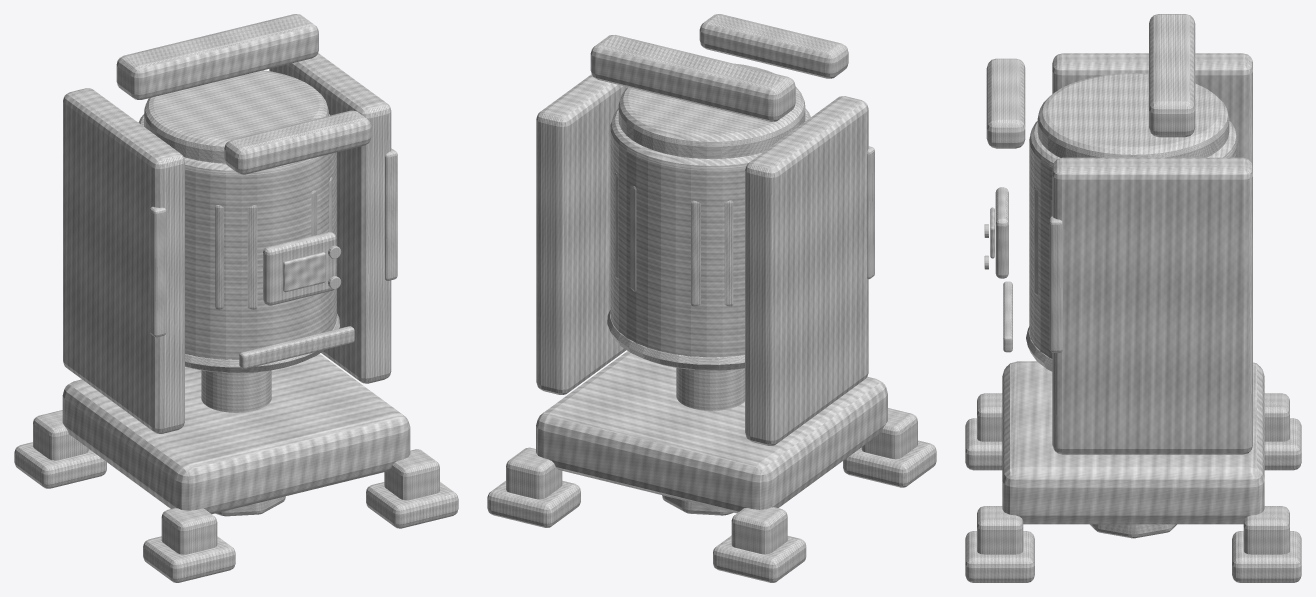
File: portable_miner_variant_b.glb
3 renders of one model, left to right at view 1: azimuth 30°, elevation 25°; view 2: azimuth 150°, elevation 25°; view 3: azimuth 270°, elevation 25°, orthographic. The views are drawn at different scales.
Visible parts, largest first — view 1: Armored side rail.001, Lower chassis.001, Motor housing.001, Armored side rail, Motor upper cap.001, Top carry arch, Carry handle.002, Service panel bezel.001, Drive spindle.001, Rubberized foot.004, Rubberized foot.006, Rubberized foot.005 (+10 smaller); view 2: Armored side rail.001, Lower chassis.001, Motor housing.001, Armored side rail, Top carry arch, Motor upper cap.001, Carry handle.002, Rubberized foot.005, Rubberized foot.007, Drive spindle.001, Rubberized foot.004, Foot bracket.005 (+7 smaller); view 3: Armored side rail, Lower chassis.001, Motor upper cap.001, Armored side rail.001, Top carry arch, Motor housing.001, Carry handle.002, Rubberized foot.006, Rubberized foot.007, Foot bracket.006, Foot bracket.007, Amber armor insert (+8 smaller).
Part boxes in pixels (x1,y1,x2,y2): Armored side rail.001: [63, 88, 184, 433]; Lower chassis.001: [62, 353, 410, 513]; Motor housing.001: [138, 114, 336, 373]; Armored side rail: [269, 53, 391, 383]; Motor upper cap.001: [144, 70, 328, 163]; Top carry arch: [116, 14, 318, 99]; Carry handle.002: [224, 110, 371, 174]; Service panel bezel.001: [263, 232, 336, 305]; Drive spindle.001: [201, 370, 271, 412]; Rubberized foot.004: [143, 536, 235, 582]; Rubberized foot.006: [366, 482, 458, 528]; Rubberized foot.005: [14, 442, 106, 488]; Armored side rail.001: [745, 96, 868, 445]; Lower chassis.001: [536, 351, 887, 513]; Motor housing.001: [610, 108, 810, 370]; Armored side rail: [536, 74, 627, 394]; Top carry arch: [590, 35, 795, 121]; Motor upper cap.001: [618, 63, 805, 158]; Carry handle.002: [699, 14, 848, 78]; Rubberized foot.005: [713, 535, 806, 582]; Rubberized foot.007: [487, 480, 580, 527]; Drive spindle.001: [676, 368, 744, 410]; Rubberized foot.004: [843, 440, 936, 487]; Foot bracket.005: [731, 507, 787, 554]; Armored side rail: [1052, 157, 1252, 454]; Lower chassis.001: [1002, 361, 1264, 524]; Motor upper cap.001: [1037, 73, 1229, 157]; Armored side rail.001: [1052, 53, 1252, 165]; Top carry arch: [1149, 14, 1195, 137]; Motor housing.001: [1029, 121, 1237, 358]; Carry handle.002: [986, 58, 1025, 148]; Rubberized foot.006: [965, 531, 1034, 582]; Rubberized foot.007: [1232, 531, 1301, 582]; Foot bracket.006: [977, 506, 1023, 554]; Foot bracket.007: [1243, 506, 1289, 554]; Amber armor insert: [1049, 216, 1062, 352].
Size of what is drawn, in the model's own units: 0.8912 by 1.31 by 0.8712.
8 materials, 8 textured.
